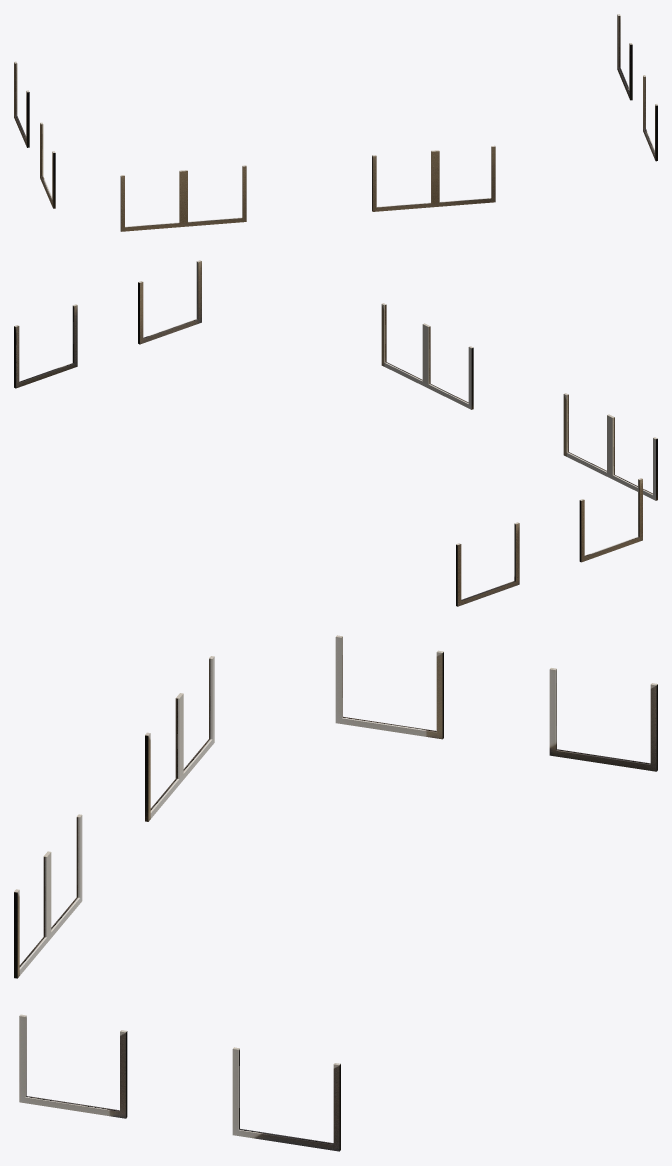
Rendered from Building_05_LV03_App_01_Frames.fbx.
3 renders of one model, top to bottom at view 1: azimuth 30°, elevation 25°; view 2: azimuth 150°, elevation 25°; view 3: azimuth 270°, elevation 25°, orthographic. The views are drawn at different scales.
Parts seen in each view (by area): view 1: Building_05_LV03_App_01_Frames; view 2: Building_05_LV03_App_01_Frames; view 3: Building_05_LV03_App_01_Frames.
Part boxes in pixels (bbox=[...]): Building_05_LV03_App_01_Frames: bbox=[14, 14, 657, 231]; Building_05_LV03_App_01_Frames: bbox=[14, 260, 657, 606]; Building_05_LV03_App_01_Frames: bbox=[14, 635, 657, 1151].
Bounding box in the file's own units: 15.86 × 1.48 × 10.04.
Materials: 1 (1 with a texture image).
